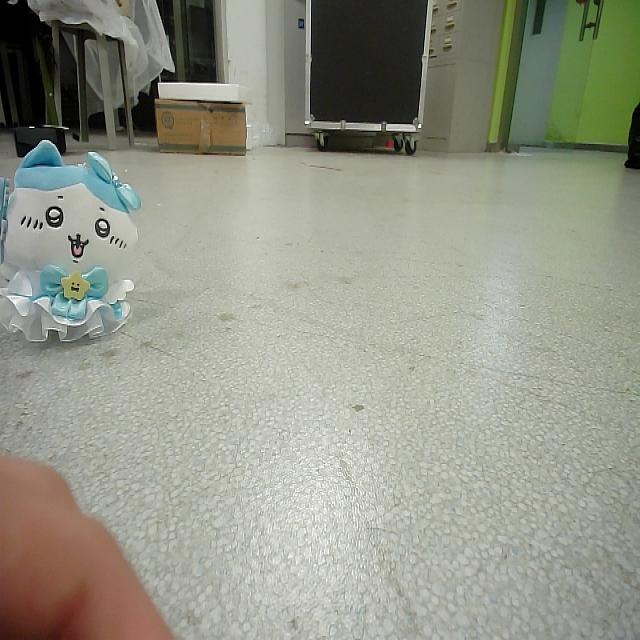xiaoba: (0, 135, 141, 345)
